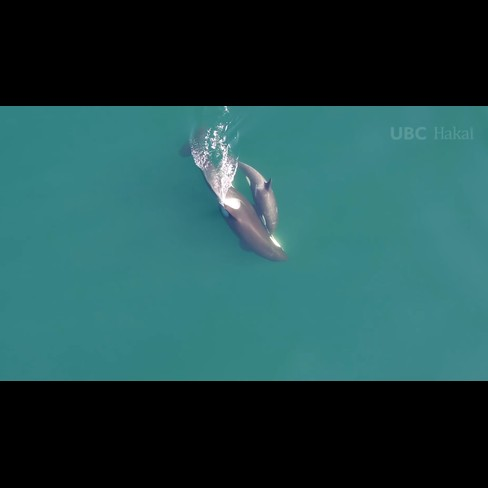orca: (173, 121, 295, 266), (215, 143, 281, 239)
